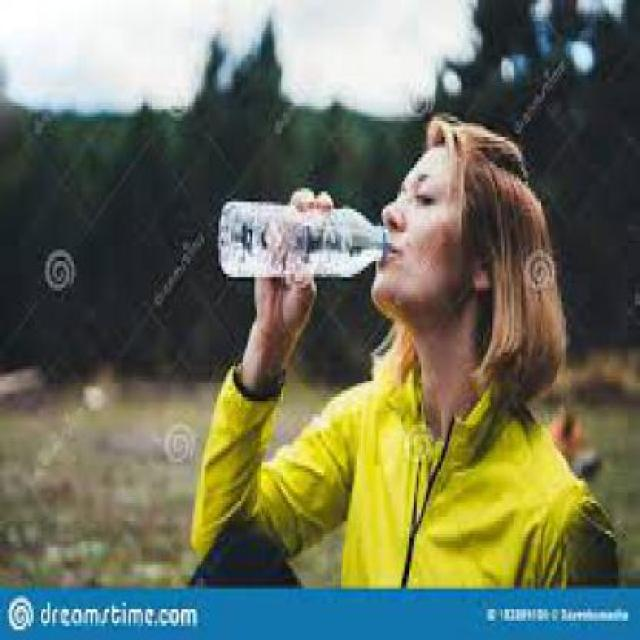Drinking: (217, 181, 400, 308)
